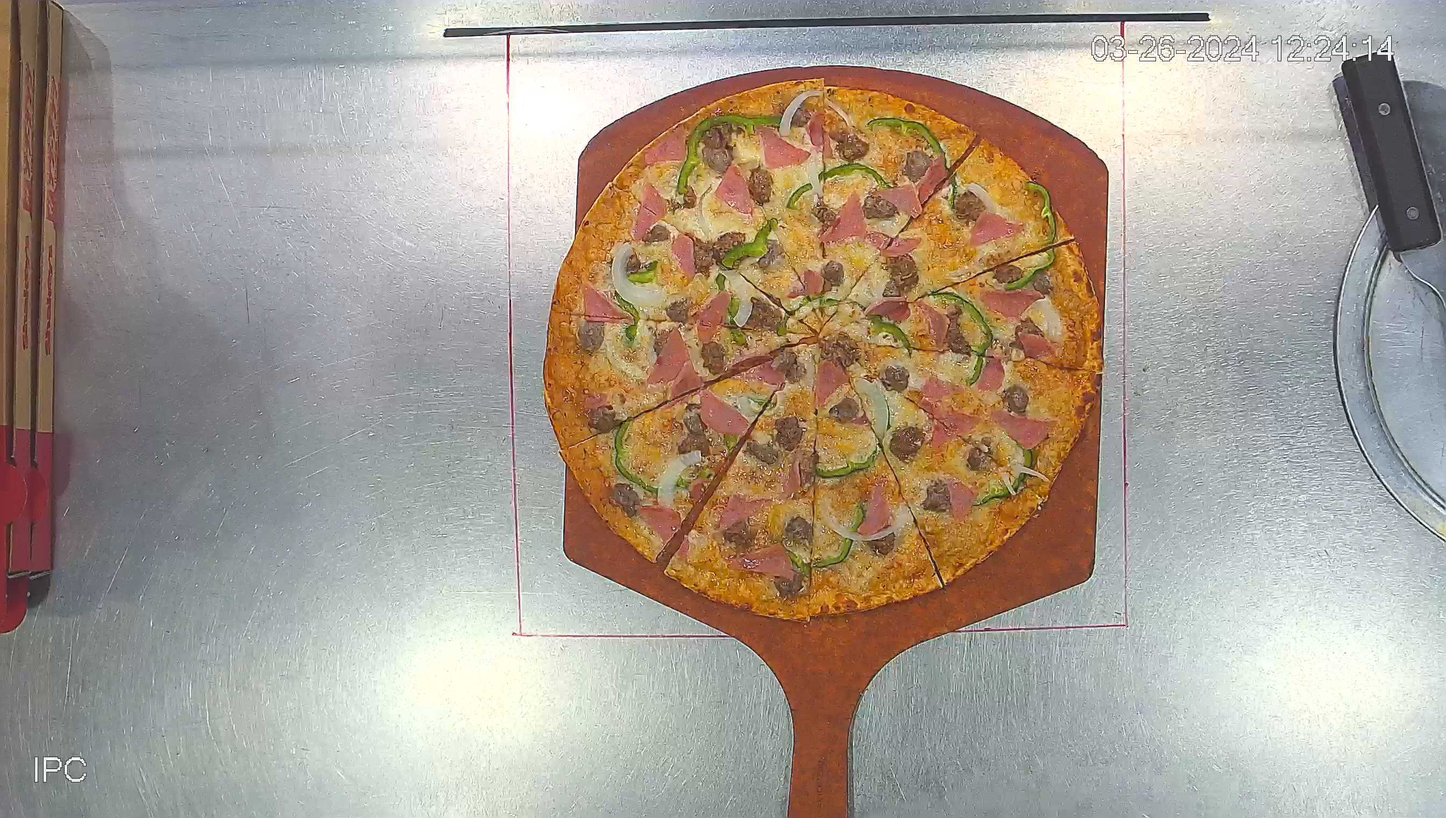hawaiian: (541, 78, 1103, 621)
